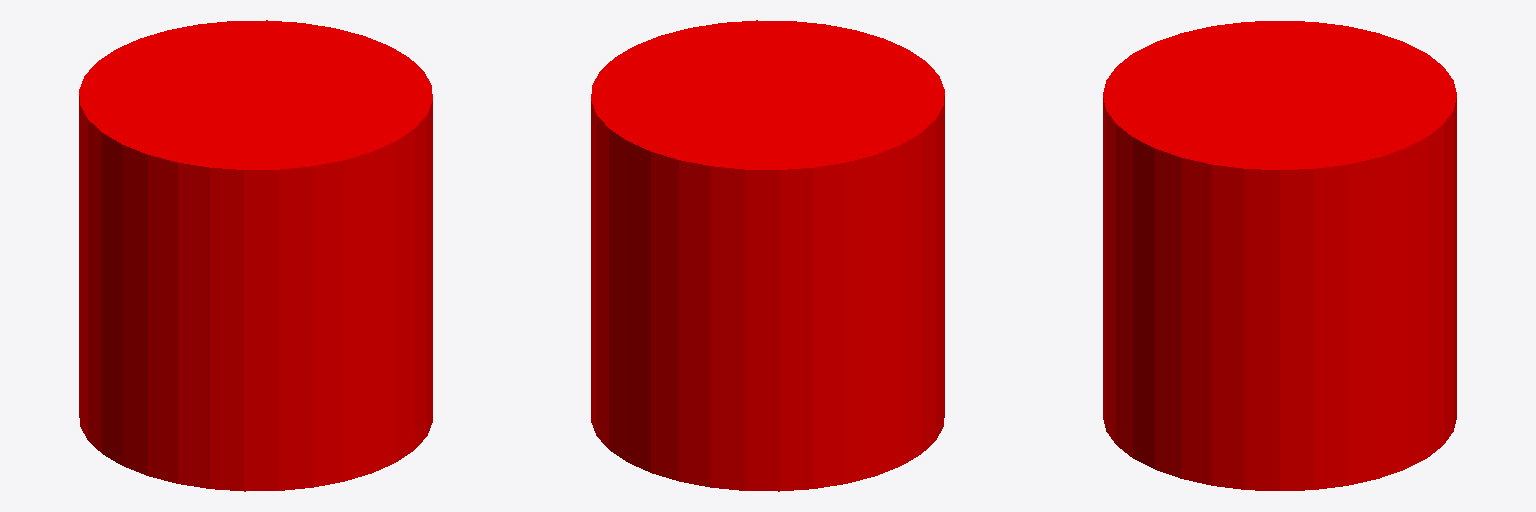
URDF robot description (object):
<?xml version="1.0"?>
<robot name="object">

  <material name="Mat"><color rgba="1.0 0.0 0.0 1.0"/></material>

  <link name="object">
    <visual>
      <origin xyz="0 0 0"/>
      <geometry>
        <cylinder length="0.05" radius="0.025"/>
      </geometry>
      <material name="Mat"/>
    </visual>
    <collision>
      <origin xyz="0 0 0"/>
      <geometry>
        <cylinder length="0.05" radius="0.025"/>
      </geometry>
    </collision>
     <inertial>
      <mass value="0.05"/>
      <inertia ixx="0.05" ixy="0.0" ixz="0.0" iyy="0.05" iyz="0.0" izz="0.05"/>
    </inertial>
  </link>
</robot>

--- Render facts (derived) ---
Views: 3 orthographic renders of the robot side by side, from view 1: azimuth 30°, elevation 25°; view 2: azimuth 150°, elevation 25°; view 3: azimuth 270°, elevation 25°.
Robot: object — 1 links, 0 joints (none); root link object; default pose: all joints at 0.
Links seen in each view (by area): view 1: object; view 2: object; view 3: object.
Link boxes in pixels (x1,y1,x2,y2): object: [79, 20, 432, 491]; object: [591, 20, 944, 491]; object: [1103, 21, 1456, 490].
Size in the robot's own frame: 0.05 by 0.05 by 0.05 metres.
Geometry: primitives only (box / cylinder / sphere), no mesh files.